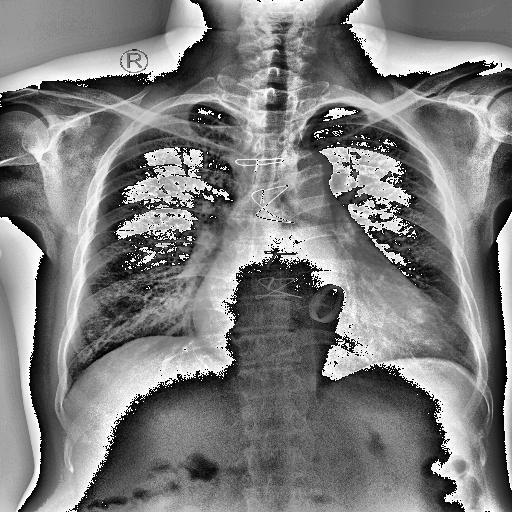3- Cardiomegaly: (160, 212, 456, 384), (178, 265, 458, 384)
8- Nodule-Mass: (390, 302, 448, 355)
9- Other lesion: (226, 142, 314, 320), (228, 146, 306, 307), (230, 147, 303, 300), (297, 270, 359, 342), (306, 282, 350, 326), (306, 279, 349, 324)
